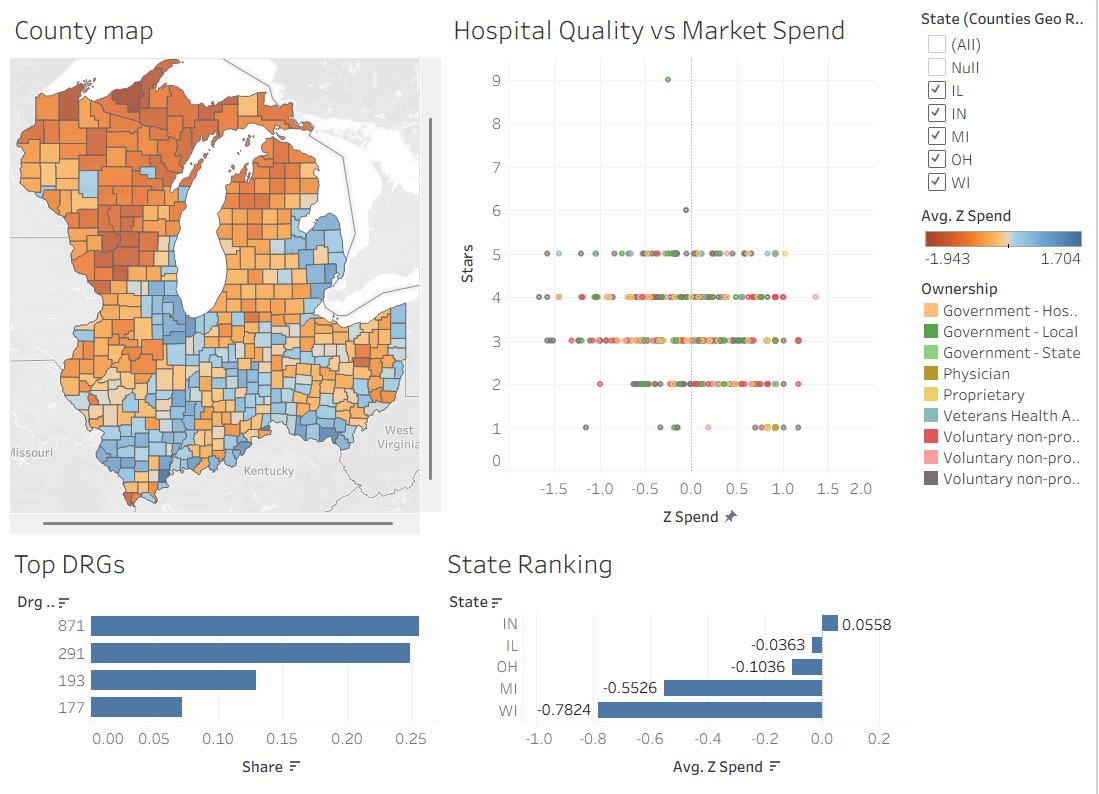

The dashboard page shown, as its layout file describes it:
{"tool":"tableau","page":{"name":"Dashboard 1","canvas":[1100,800],"ordinal":0},"visuals":[{"type":"worksheet","title":"County map","mark":"Automatic","box":[8,8,439,534]},{"type":"worksheet","title":"Hospital Quality vs Market Spend","mark":"Automatic","rows":["stars"],"cols":["z_spend"],"box":[447,8,433,534]},{"type":"filter","title":"County map","param":"[federated.1b93y071jk22lz1ba65lr1ai0hog].[none:state (counties_geo_region.json):","box":[919,8,173,197]},{"type":"legend","title":"County map","param":"[federated.1b93y071jk22lz1ba65lr1ai0hog].[avg:z_spend:qk]","box":[919,205,173,73]},{"type":"legend","title":"Hospital Quality vs Market Spend","param":"[federated.1b93y071jk22lz1ba65lr1ai0hog].[none:ownership:nk]","box":[919,278,173,219]},{"type":"worksheet","title":"Top DRGs","mark":"Automatic","rows":["drg_code"],"cols":["share"],"box":[8,542,433,250]},{"type":"worksheet","title":"State Ranking","mark":"Automatic","rows":["state"],"cols":["z_spend"],"box":[441,542,478,250]}]}

Visuals, with their boxes in screenshot pixels (x1, y1, x2, y2), scaled from the page's 1100x800 canvas onto the 1099x794 screenshot:
"County map" worksheet: <bbox>8, 8, 447, 538</bbox>
"Hospital Quality vs Market Spend" worksheet: <bbox>447, 8, 879, 538</bbox>
"County map" filter: <bbox>918, 8, 1091, 203</bbox>
"County map" legend: <bbox>918, 203, 1091, 276</bbox>
"Hospital Quality vs Market Spend" legend: <bbox>918, 276, 1091, 493</bbox>
"Top DRGs" worksheet: <bbox>8, 538, 441, 786</bbox>
"State Ranking" worksheet: <bbox>441, 538, 918, 786</bbox>
